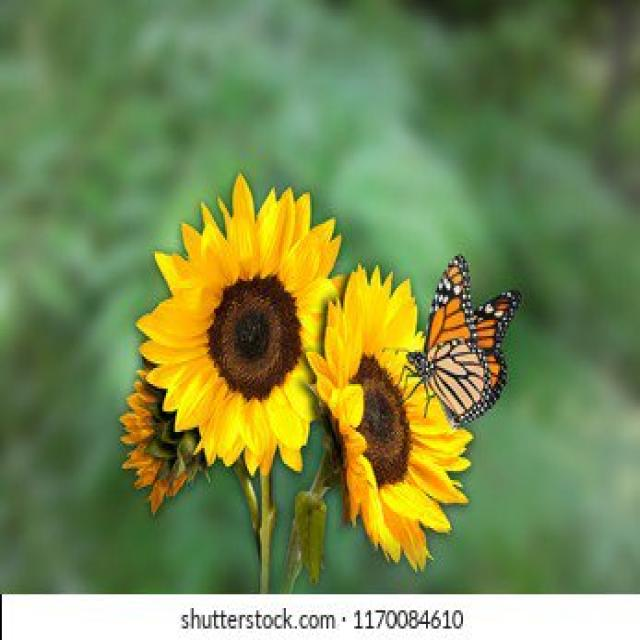sunflower: (135, 171, 341, 478), (304, 260, 472, 572), (118, 352, 184, 514)
